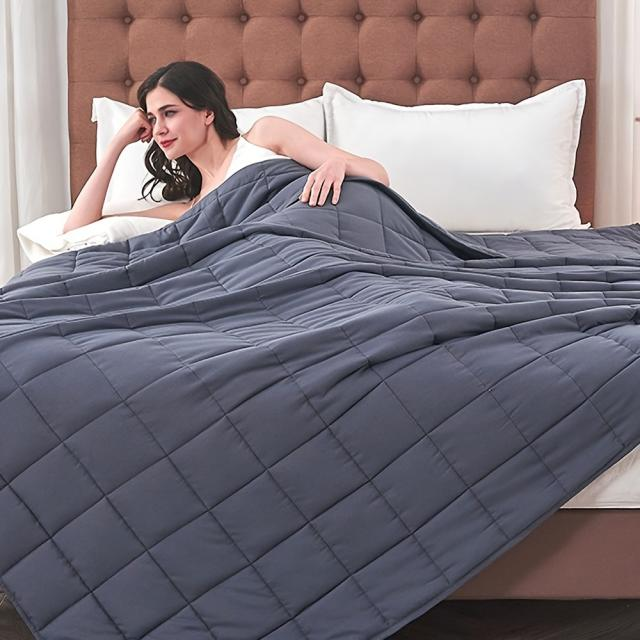blanket: (1, 161, 640, 640)
